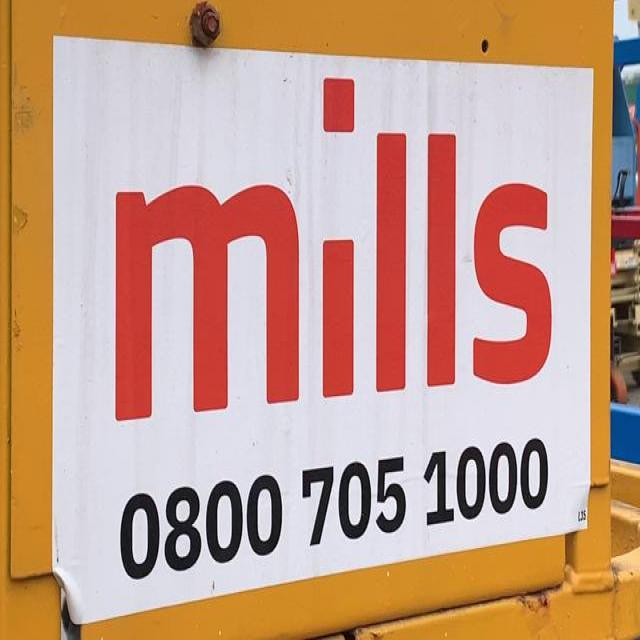Adesivos: (47, 25, 607, 634)
